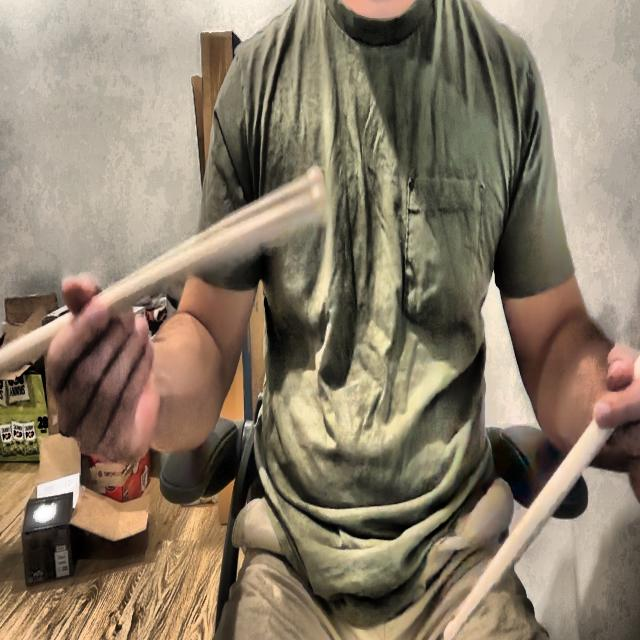Drumstick-Heads: (306, 161, 332, 233), (439, 607, 460, 640)
